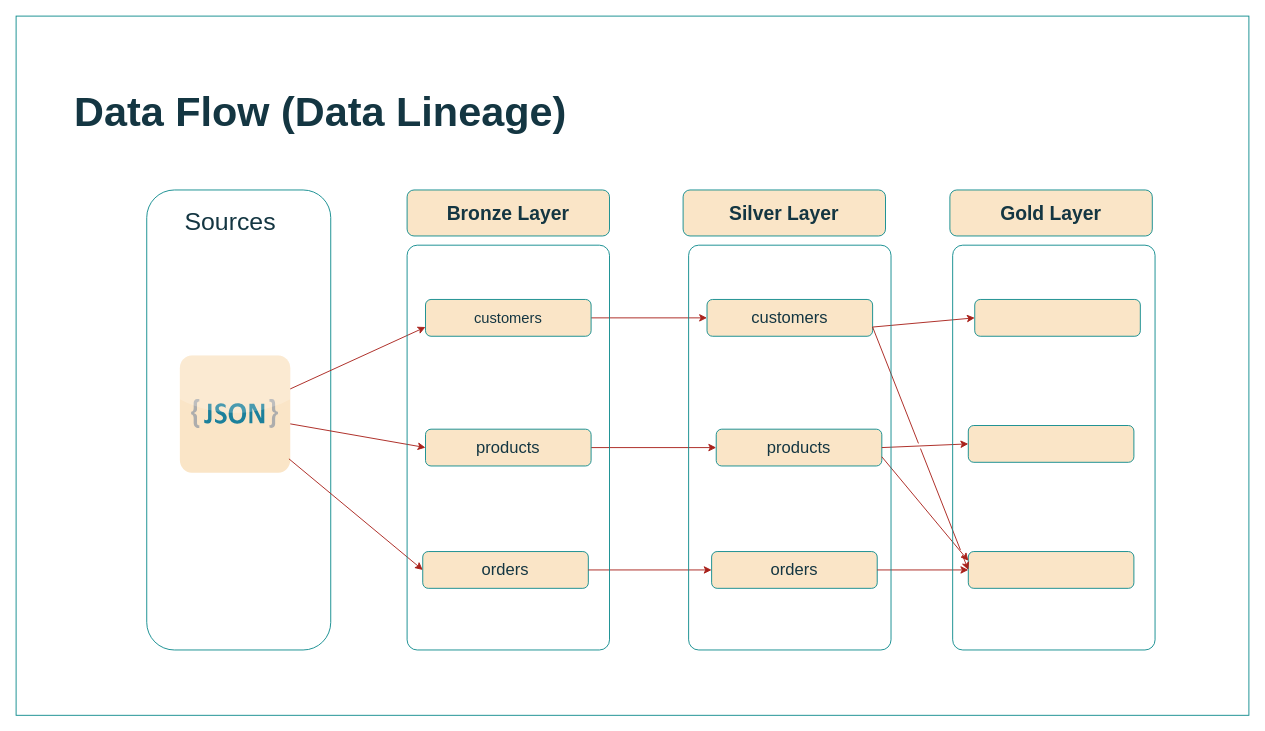
Some shapes in this 1265 by 731 pixel diagram are drawn without their labels. Each missing label, with the centre of its shape:
"dim_customers" belongs at point 1057,317.
"dim_products" belongs at point 1050,443.
"fact_sales" belongs at point 1050,569.
